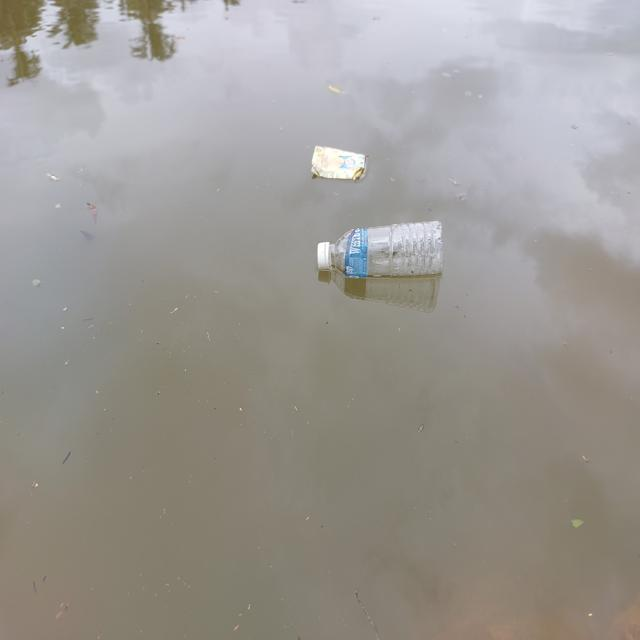paper: (308, 134, 365, 198)
waterbottle: (314, 229, 453, 291)
